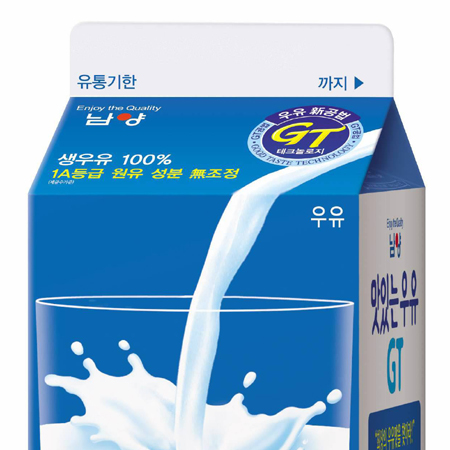milk: (27, 20, 427, 450)
